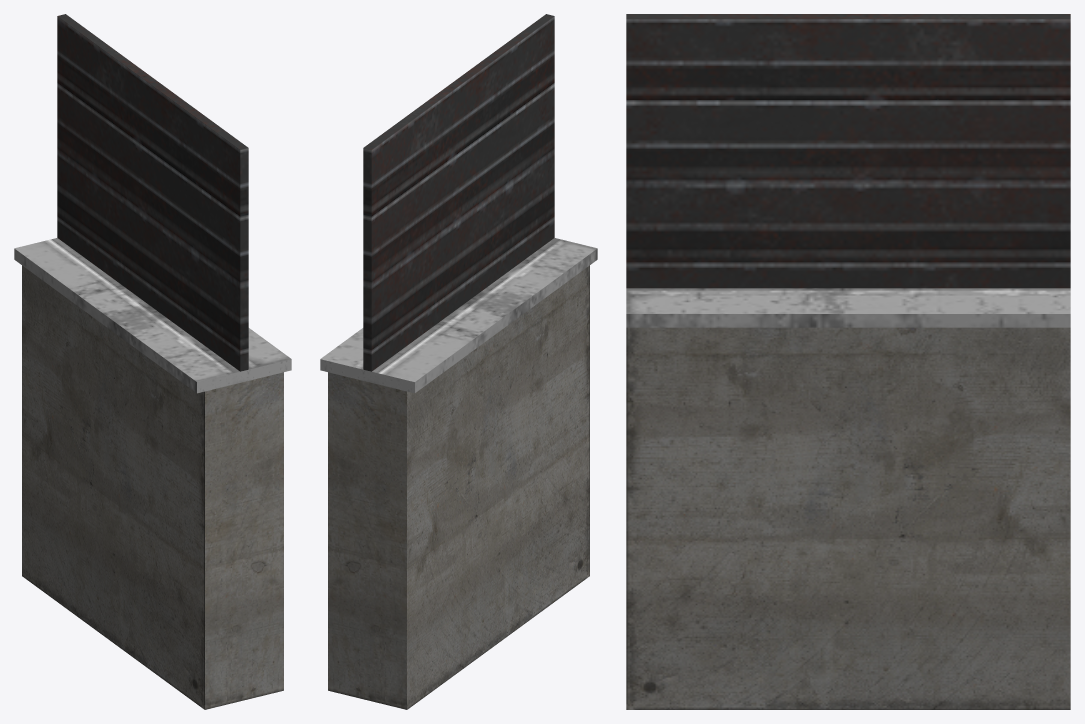
File: CP_Parapet_C_1m.fbx
3 views of the same model, side by side, from view 1: azimuth 30°, elevation 25°; view 2: azimuth 150°, elevation 25°; view 3: azimuth 270°, elevation 25° (orthographic). The views are drawn at different scales.
Parts seen in each view (by area): view 1: CP_Parapet_C_1m; view 2: CP_Parapet_C_1m; view 3: CP_Parapet_C_1m.
Boxes of the visible parts, bbox=[...] form: CP_Parapet_C_1m: bbox=[14, 14, 291, 709]; CP_Parapet_C_1m: bbox=[320, 14, 597, 709]; CP_Parapet_C_1m: bbox=[626, 14, 1070, 709].
Size of the model in its own units: 29.88 by 166 by 100.
